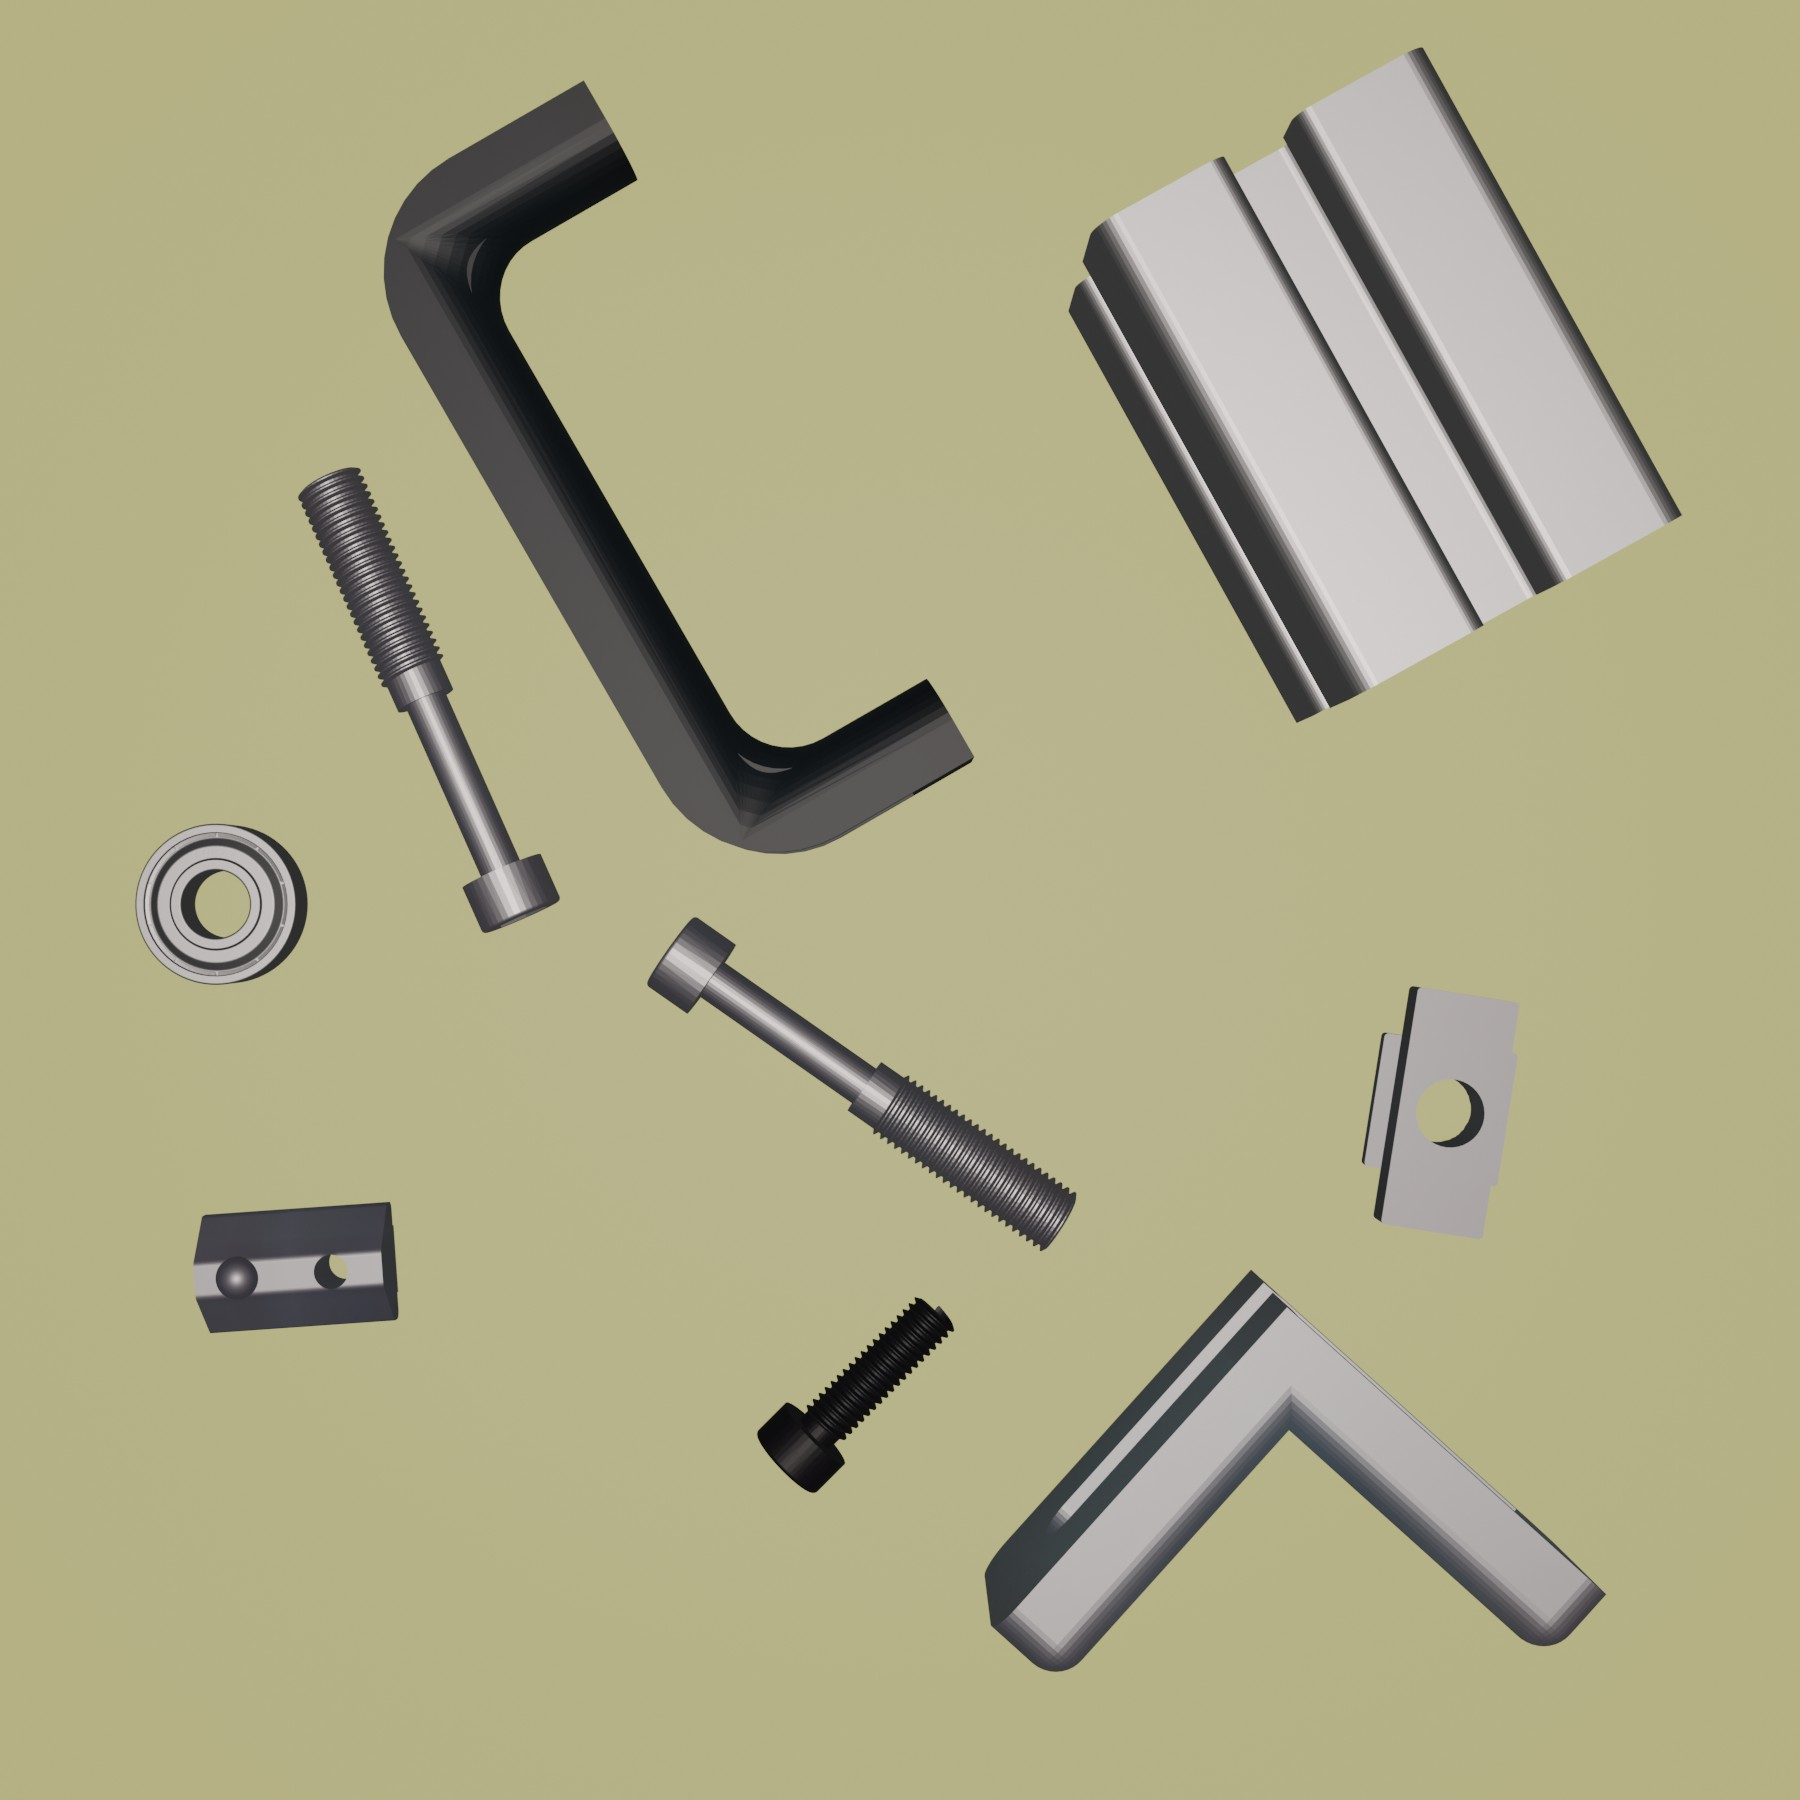Aluminium Extension: (1065, 45, 1683, 727)
Ball Bearing: (134, 819, 308, 987)
Multiwinkel: (982, 1266, 1612, 1675)
Pull Handle: (381, 77, 977, 855)
Shoulder Socket Head Cap Screw: (643, 912, 1080, 1258), (297, 462, 562, 935)
Socket Head Cap Screw: (753, 1296, 959, 1497)
T Nut Square: (1358, 981, 1525, 1243)
T Spring Nut: (188, 1197, 404, 1337)
